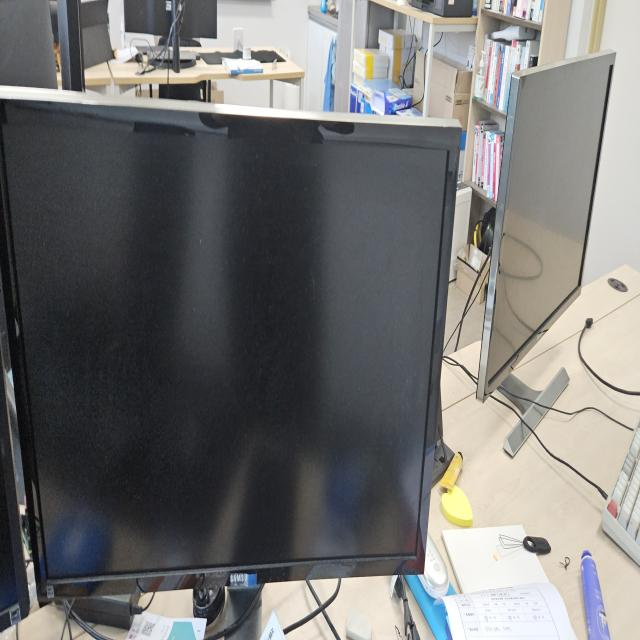Keyboard: (601, 416, 639, 568)
Monitor: (2, 79, 463, 622)
